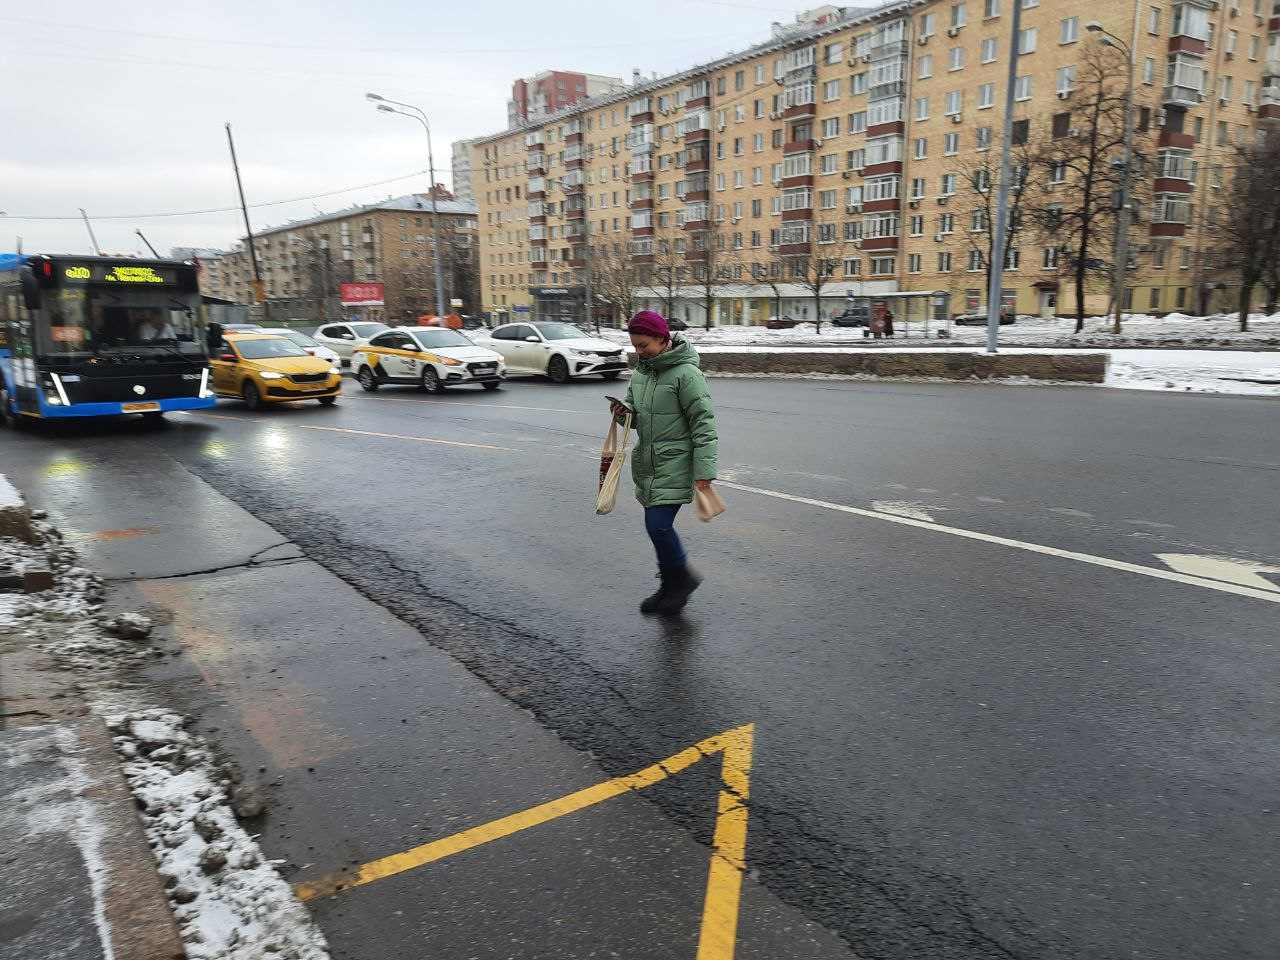sombie: (559, 283, 785, 652)
